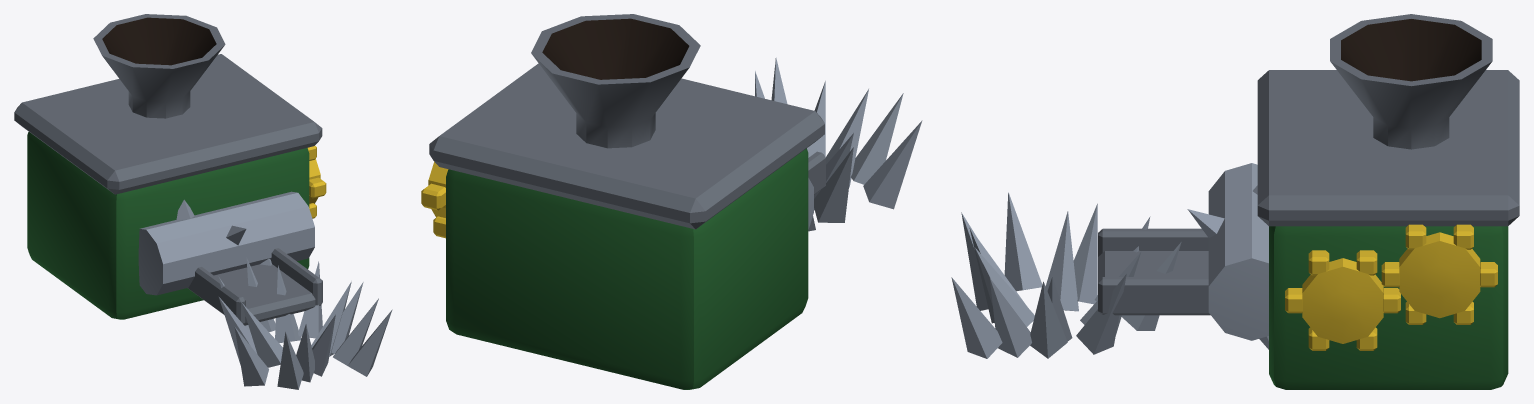
3 views of the same model, side by side, from view 1: azimuth 30°, elevation 25°; view 2: azimuth 150°, elevation 25°; view 3: azimuth 270°, elevation 25° (orthographic). The views are drawn at different scales.
Visible parts, largest first — view 1: espinhos_0_base, espinhos_1_torreta; view 2: espinhos_0_base, espinhos_1_torreta; view 3: espinhos_0_base, espinhos_1_torreta.
Part boxes in pixels (x1,y1,x2,y2): espinhos_0_base: (14,14,392,389); espinhos_1_torreta: (188,248,322,325); espinhos_0_base: (421,14,922,389); espinhos_1_torreta: (808,151,825,194); espinhos_0_base: (951,14,1519,389); espinhos_1_torreta: (1098,228,1210,315).
Bounding box in the file's own units: 0.596 × 0.55 × 0.9975.
